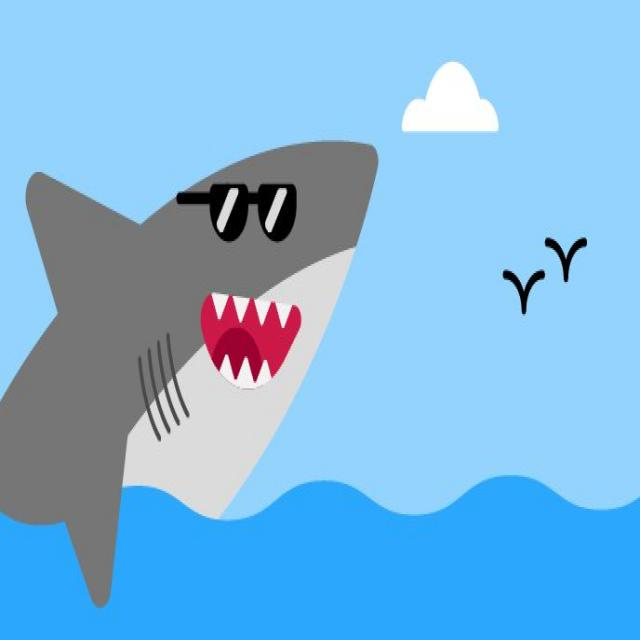shark: (1, 142, 378, 605)
